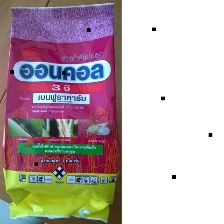insecticide: (0, 0, 122, 223)
